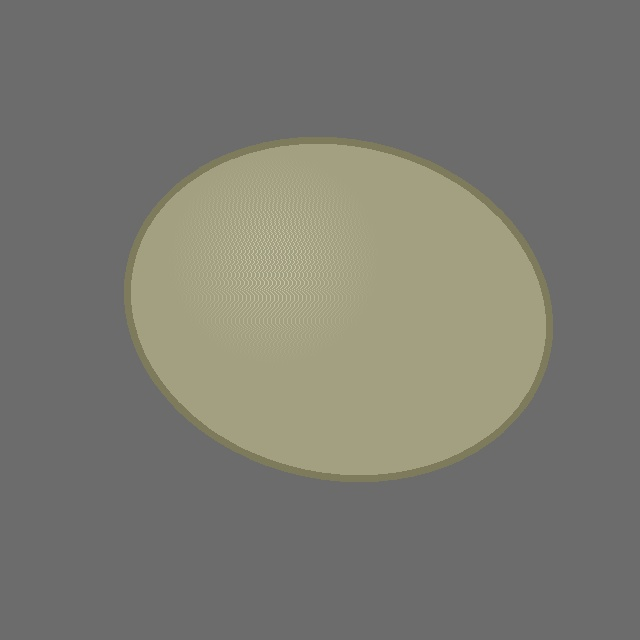lens: (128, 140, 548, 478)
